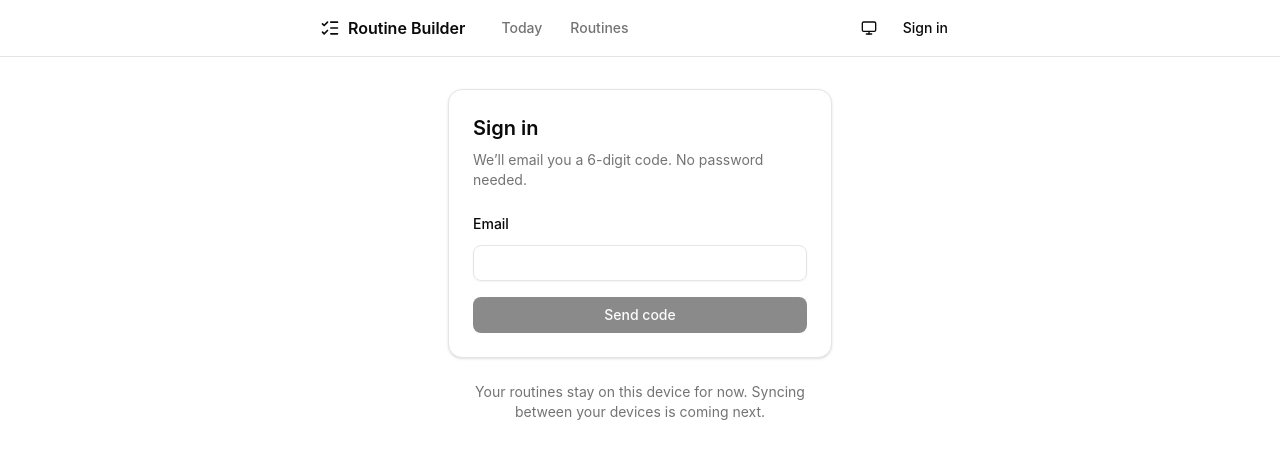
Test case: signing in › shows why a code could not be sent
The width and height of the screenshot is (1280, 469).
Expected: the heading "Routine Builder" is shown, [348, 16, 465, 40]
Type "me@example.com" into the field labelled "Email" at (640, 263), box [473, 245, 807, 281]
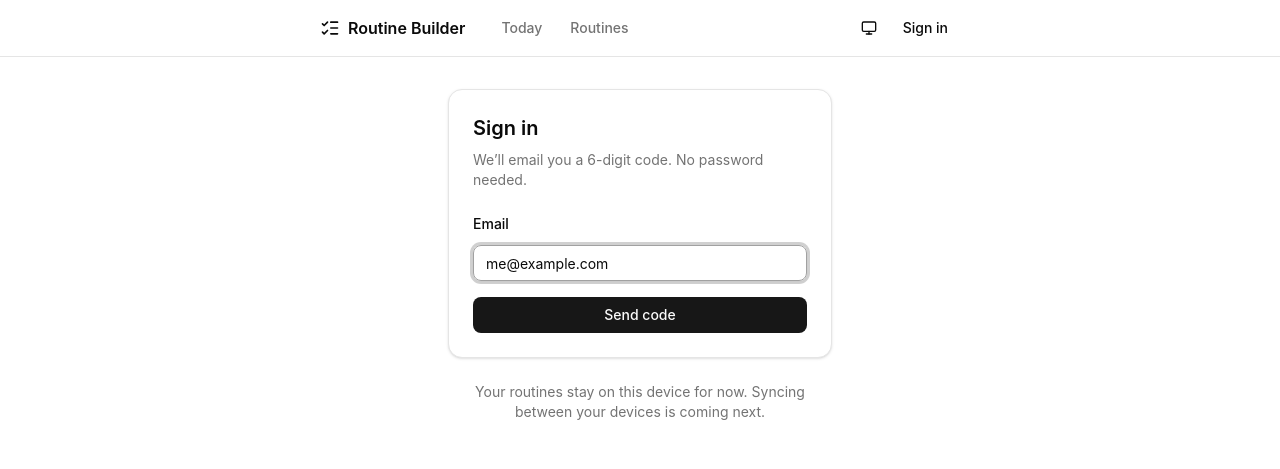
Click the button "Send code" at (640, 315), box [473, 297, 807, 333]
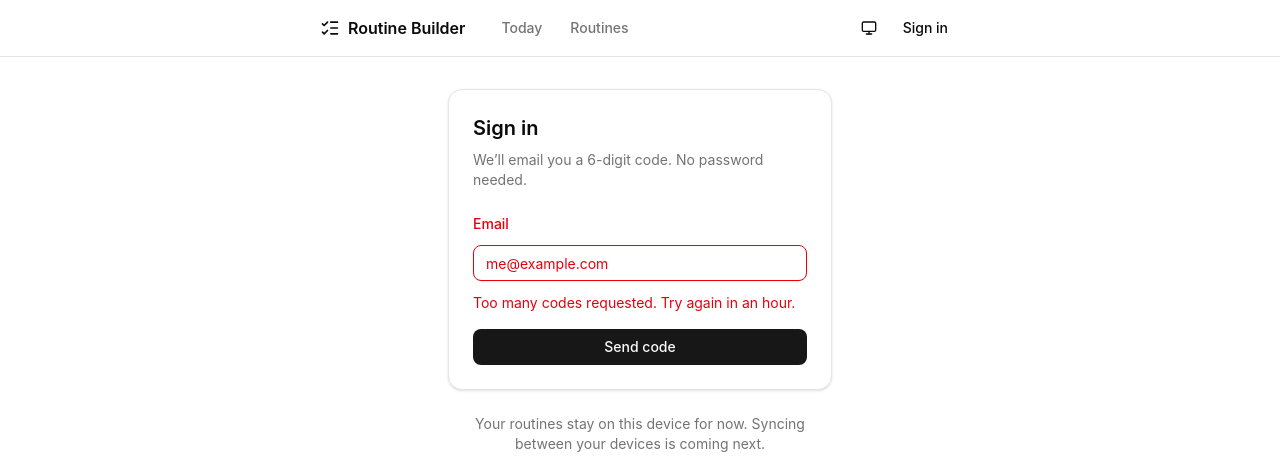
Result: the text "Too many codes requested. Try again in an hour." is shown at [473, 293, 807, 313]
